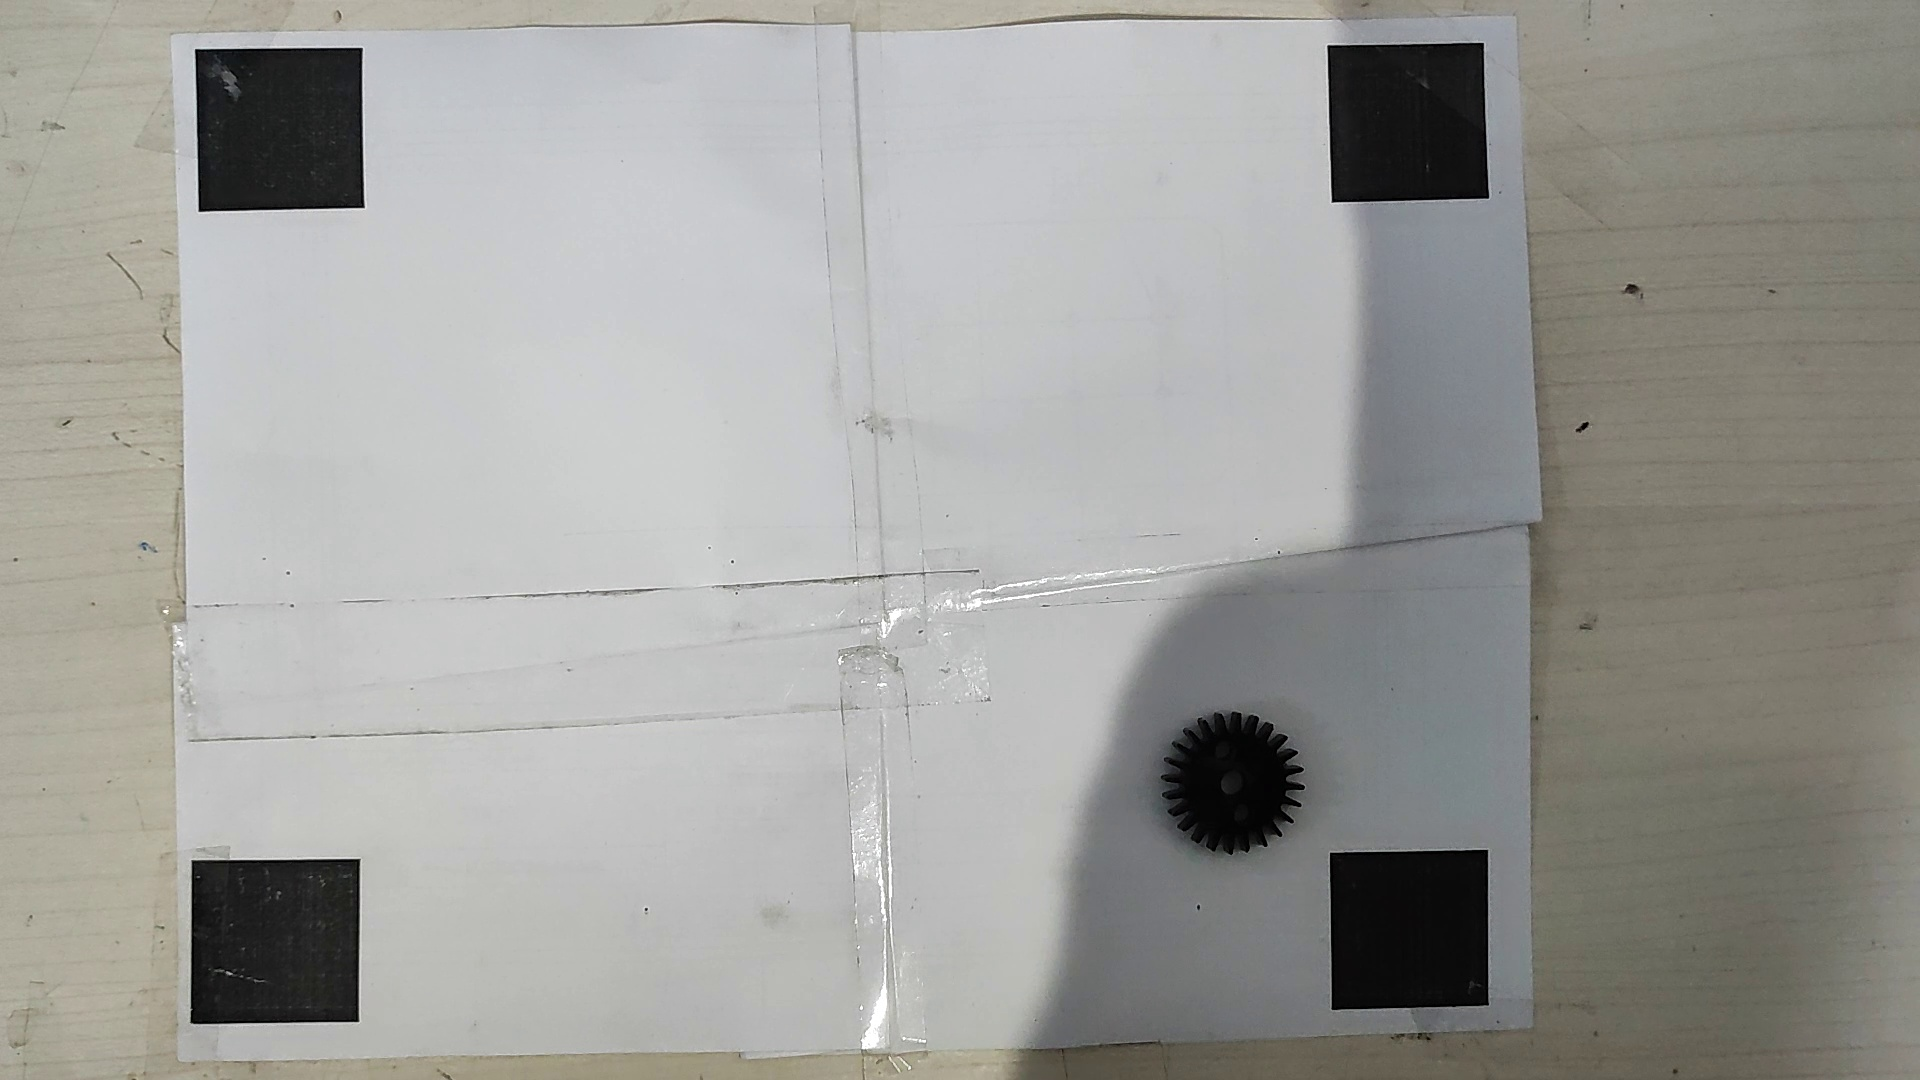Gear: (1155, 708, 1304, 857)
